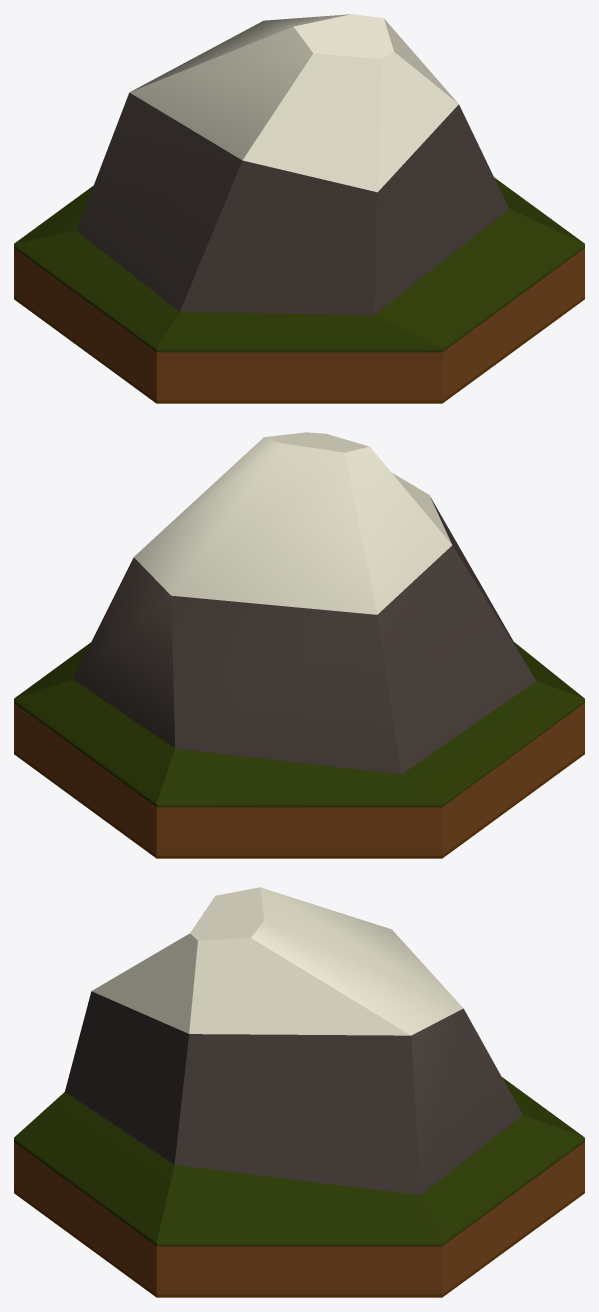
Rendered from mountain4.fbx.
The picture shows the model from 3 angles, top to bottom: view 1: azimuth 30°, elevation 25°; view 2: azimuth 150°, elevation 25°; view 3: azimuth 270°, elevation 25°; orthographic projection.
Parts seen in each view (by area): view 1: pCylinder2; view 2: pCylinder2; view 3: pCylinder2.
Boxes of the visible parts, x1=… form: pCylinder2: x1=14, y1=14, x2=584, y2=403; pCylinder2: x1=14, y1=432, x2=584, y2=858; pCylinder2: x1=14, y1=887, x2=584, y2=1297.
Bounding box in the file's own units: 1.73 × 1.13 × 2.
